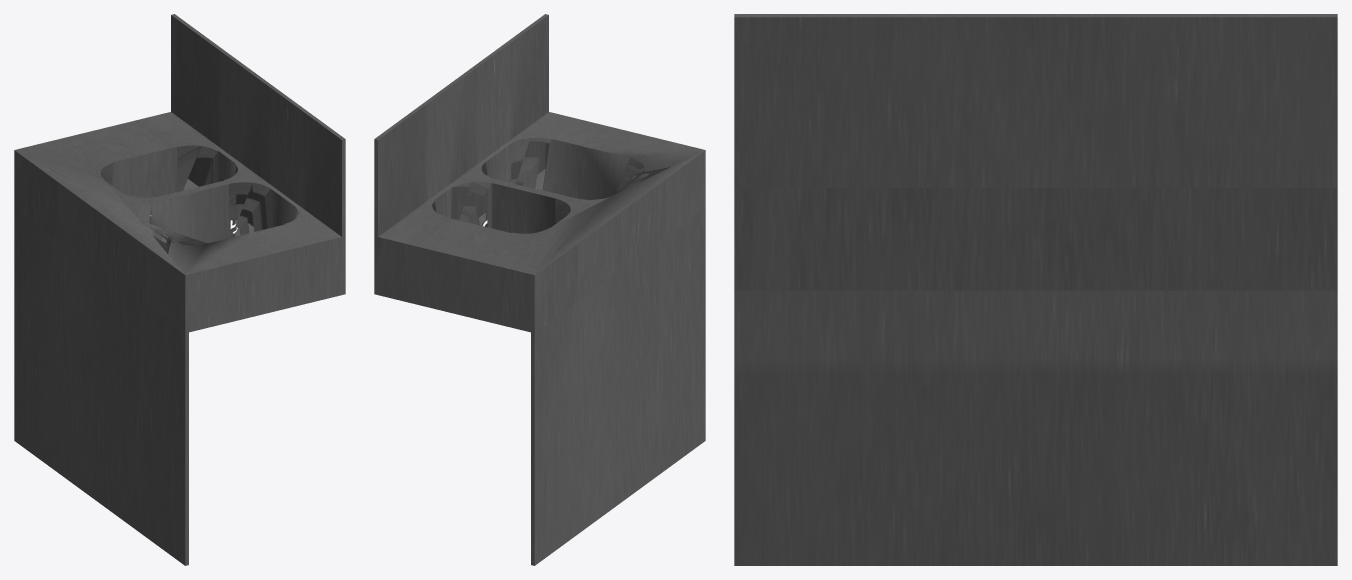
The model's file is Top_503HD_Corian111yes1.FBX.
3 renders of one model, left to right at view 1: azimuth 30°, elevation 25°; view 2: azimuth 150°, elevation 25°; view 3: azimuth 270°, elevation 25°, orthographic. The views are drawn at different scales.
Parts seen in each view (by area): view 1: Top_503HD_ArchitectMerged; view 2: Top_503HD_ArchitectMerged; view 3: Top_503HD_ArchitectMerged.
Part boxes in pixels (x1,y1,x2,y2): Top_503HD_ArchitectMerged: (14, 14, 345, 565); Top_503HD_ArchitectMerged: (374, 14, 705, 565); Top_503HD_ArchitectMerged: (734, 14, 1337, 565).
Size of the model in its own units: 0.65 by 1.5 by 1.2.
1 material, 1 textured.
